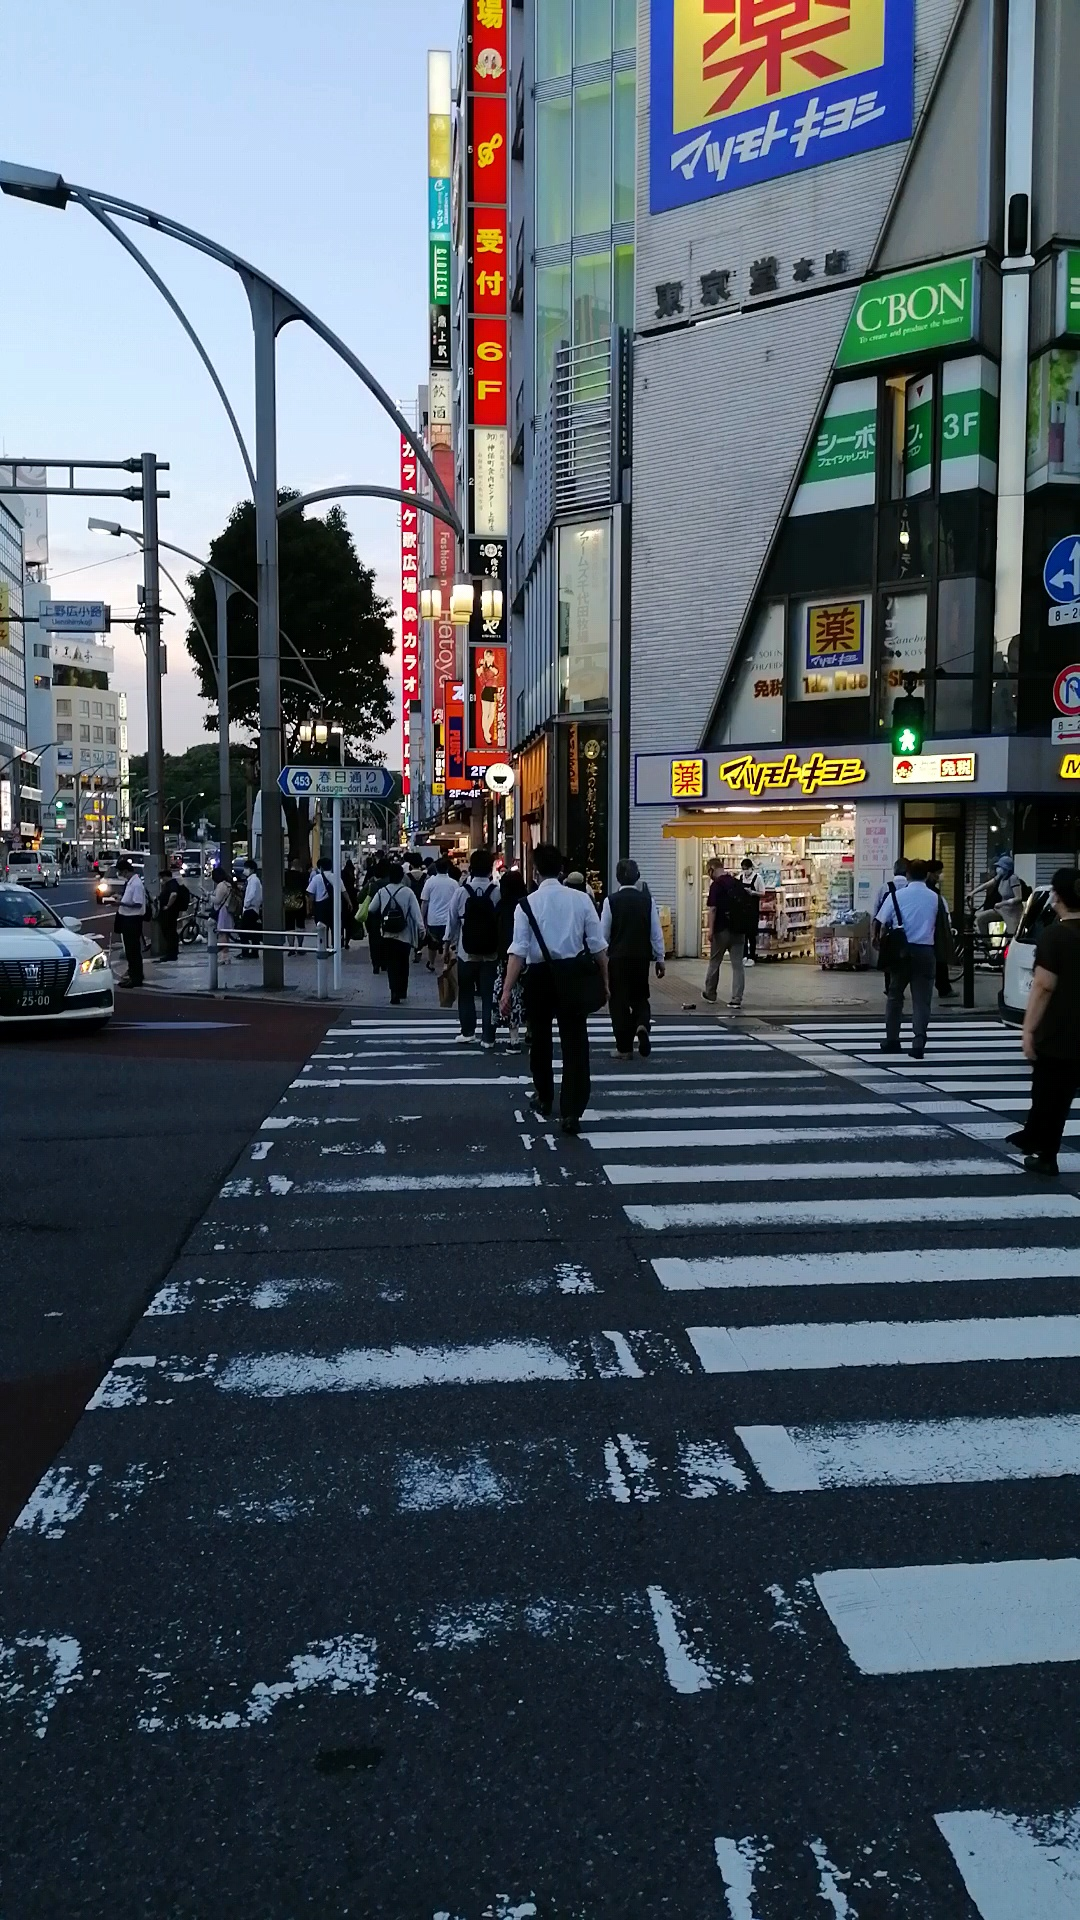green: (891, 696, 923, 757)
